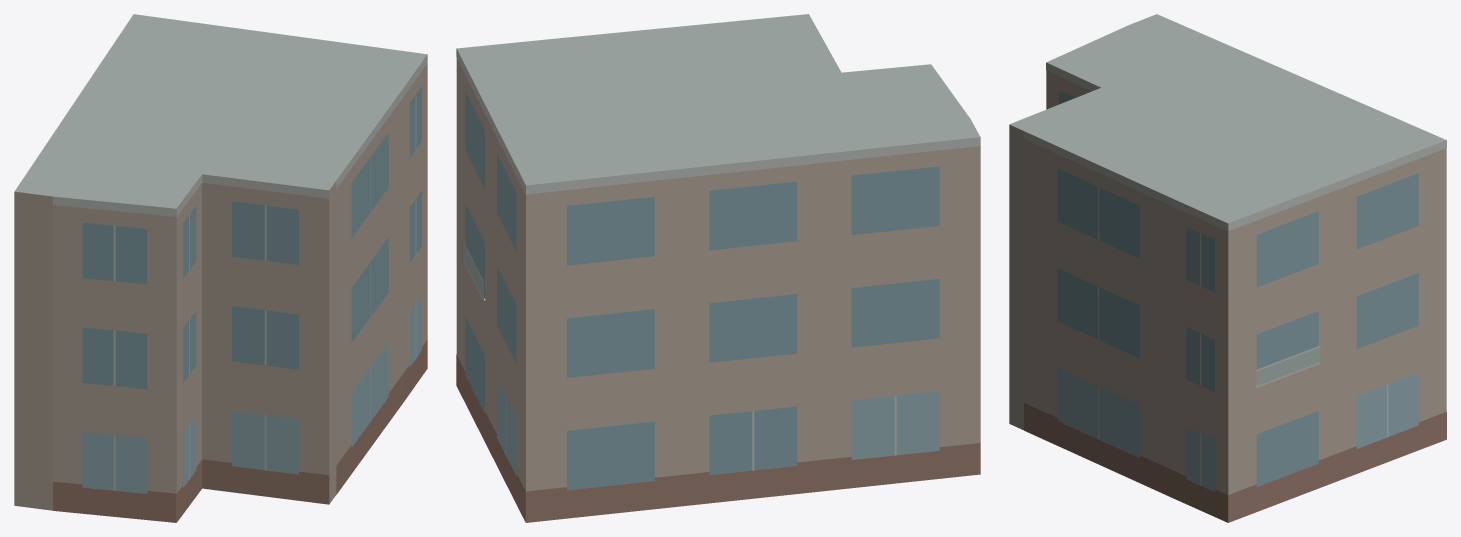
File: survey-upis-32719233.glb
3 views of the same model, side by side, from view 1: azimuth 30°, elevation 25°; view 2: azimuth 150°, elevation 25°; view 3: azimuth 270°, elevation 25° (orthographic). The views are drawn at different scales.
Visible parts, largest first — view 1: survey-upis-32719233.tmp; view 2: survey-upis-32719233.tmp; view 3: survey-upis-32719233.tmp.
Part boxes in pixels (x1,y1,x2,y2): survey-upis-32719233.tmp: [14, 14, 427, 522]; survey-upis-32719233.tmp: [456, 14, 980, 522]; survey-upis-32719233.tmp: [1009, 14, 1446, 522].
Bounding box in the file's own units: 13.74 × 9.15 × 12.13.
